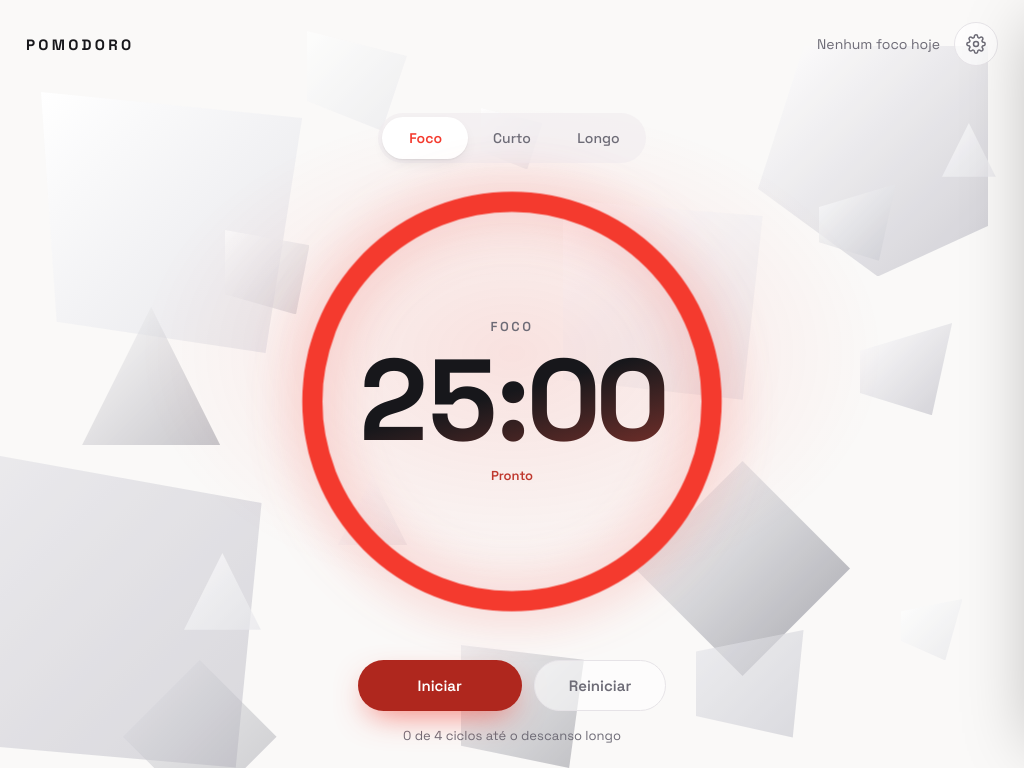
Test: App › switches session types manually
Step 1. Click the button "Longo" → (598, 138), box 555,116 -> 642,158
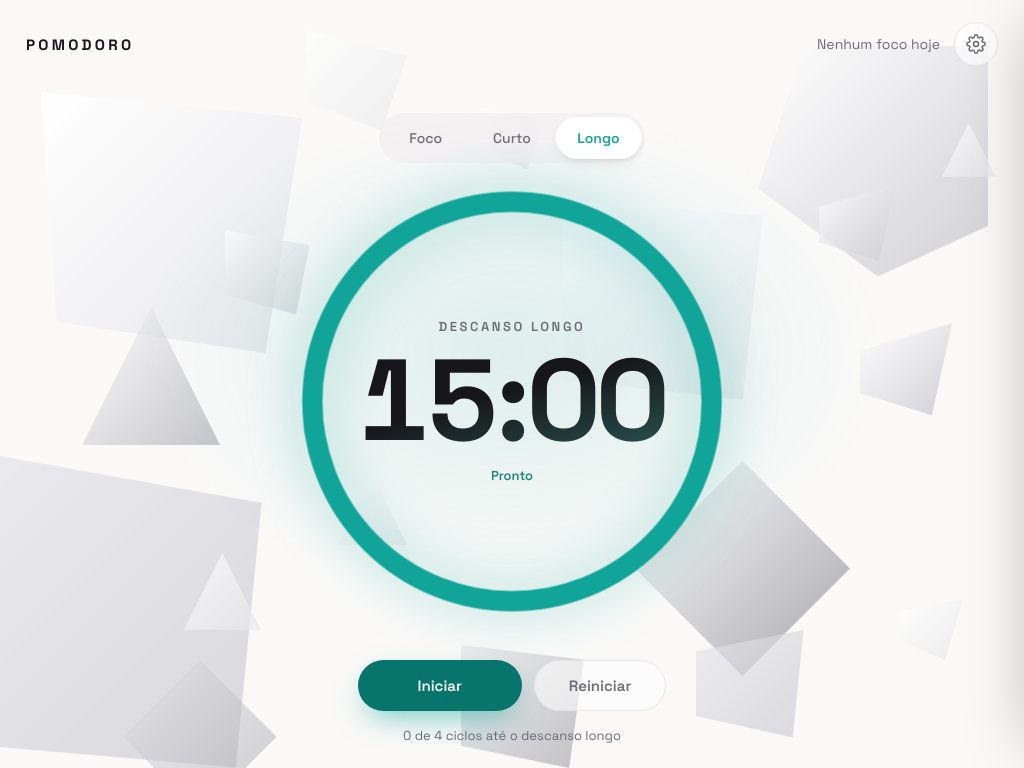
Now the text "15:00" is shown, box 358,343 -> 666,459
